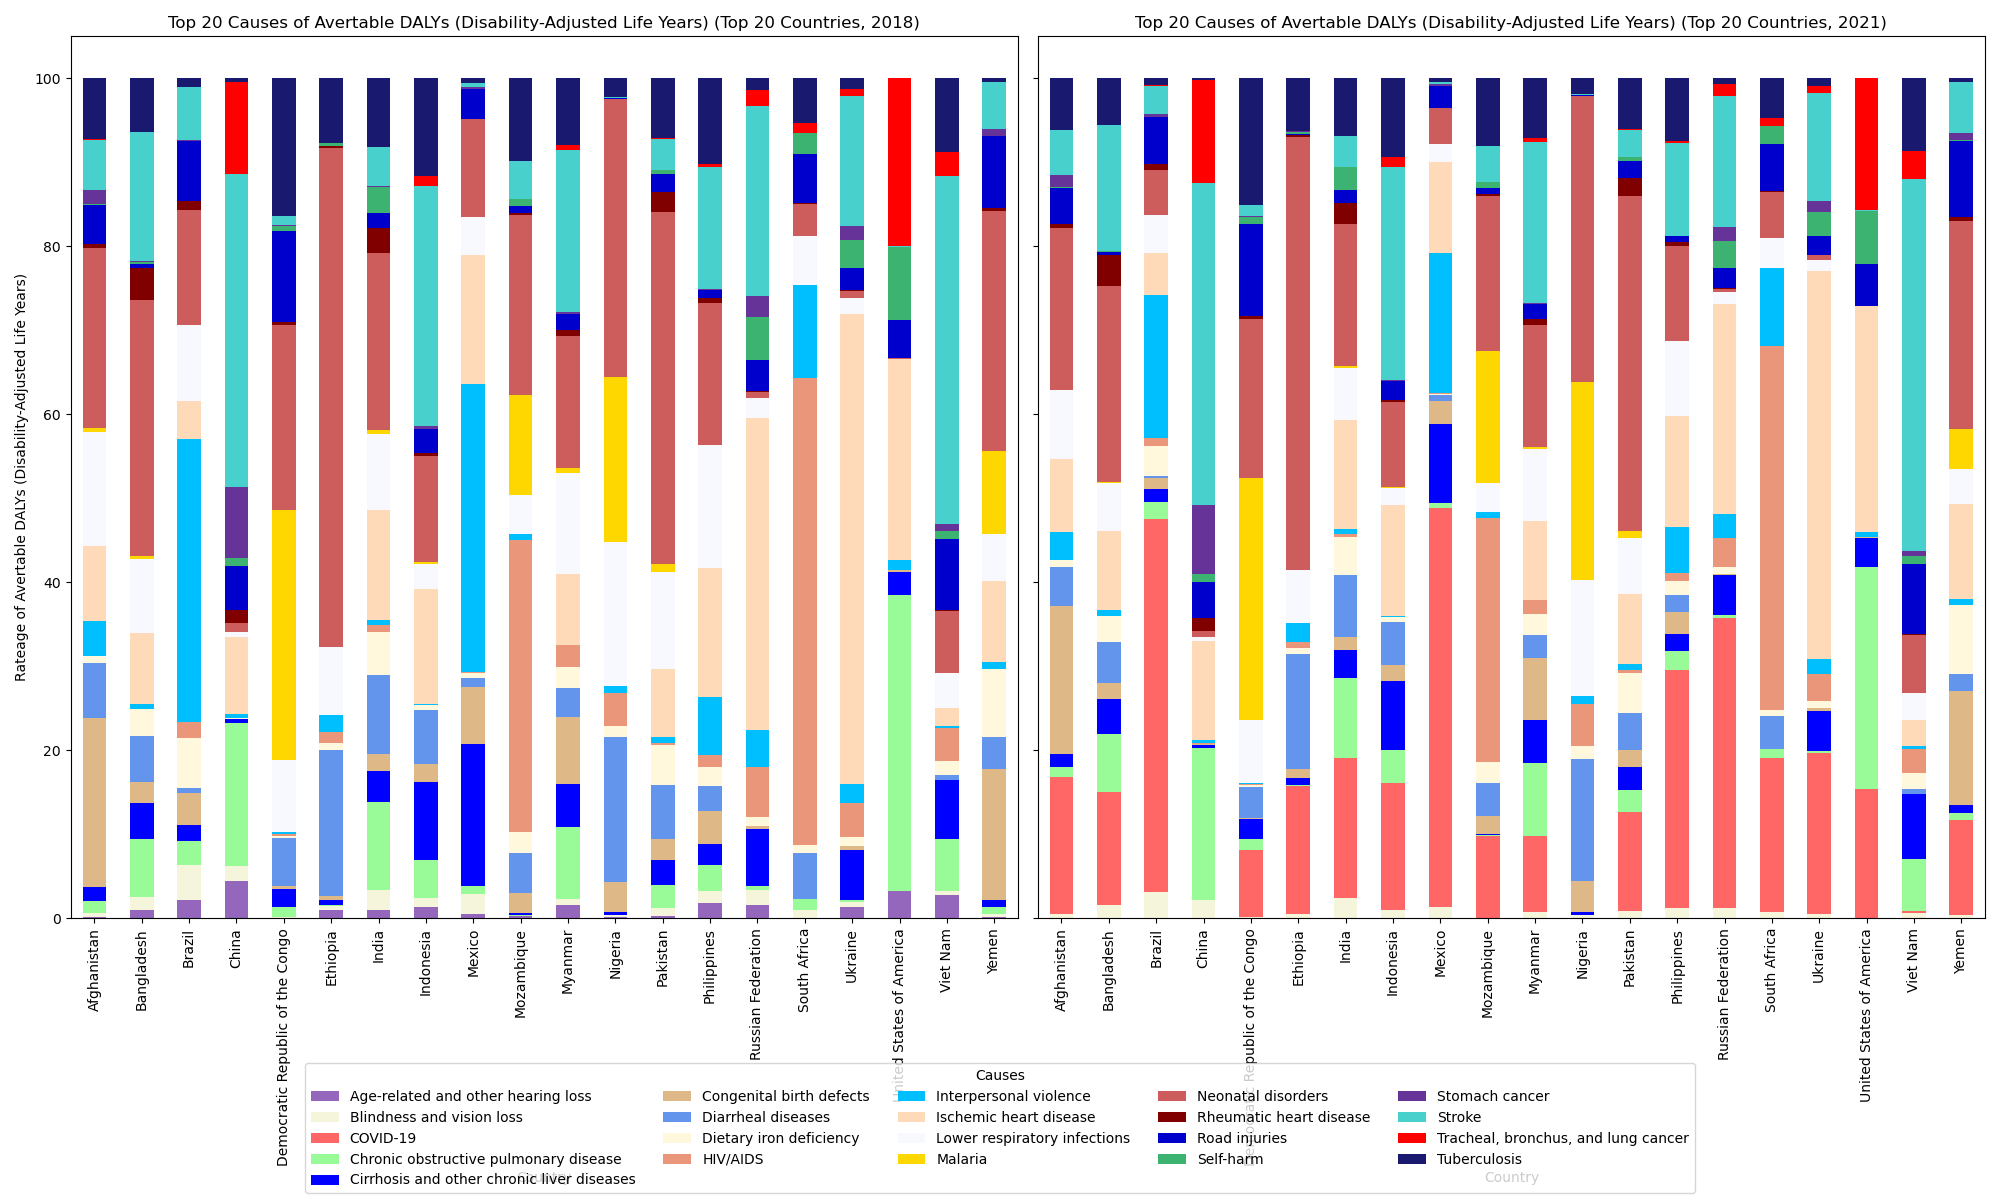

Layout of this report page (visuals, bound fields, positions):
{"tool":"tableau","page":{"name":"Dashboard 13","canvas":[1000,800],"ordinal":4},"visuals":[{"type":"worksheet","title":"Sheet 35","mark":"Automatic","box":[8,8,984,784]},{"type":"legend","title":"Sheet 35","param":"[federated.02kr92z01n08sg13d5hqw0u9ay24].[usr:Calculation_3593239233526333443:qk","box":[846,58,140,76]}]}

Visuals, with their boxes on the page's 1000x800 design canvas (x1, y1, x2, y2). These are canvas units, not pixel positions in the 2000x1200 screenshot, which may show the page scaled, cropped or inside an application window:
"Sheet 35" worksheet: 8 8 992 792
"Sheet 35" legend: 846 58 986 134
